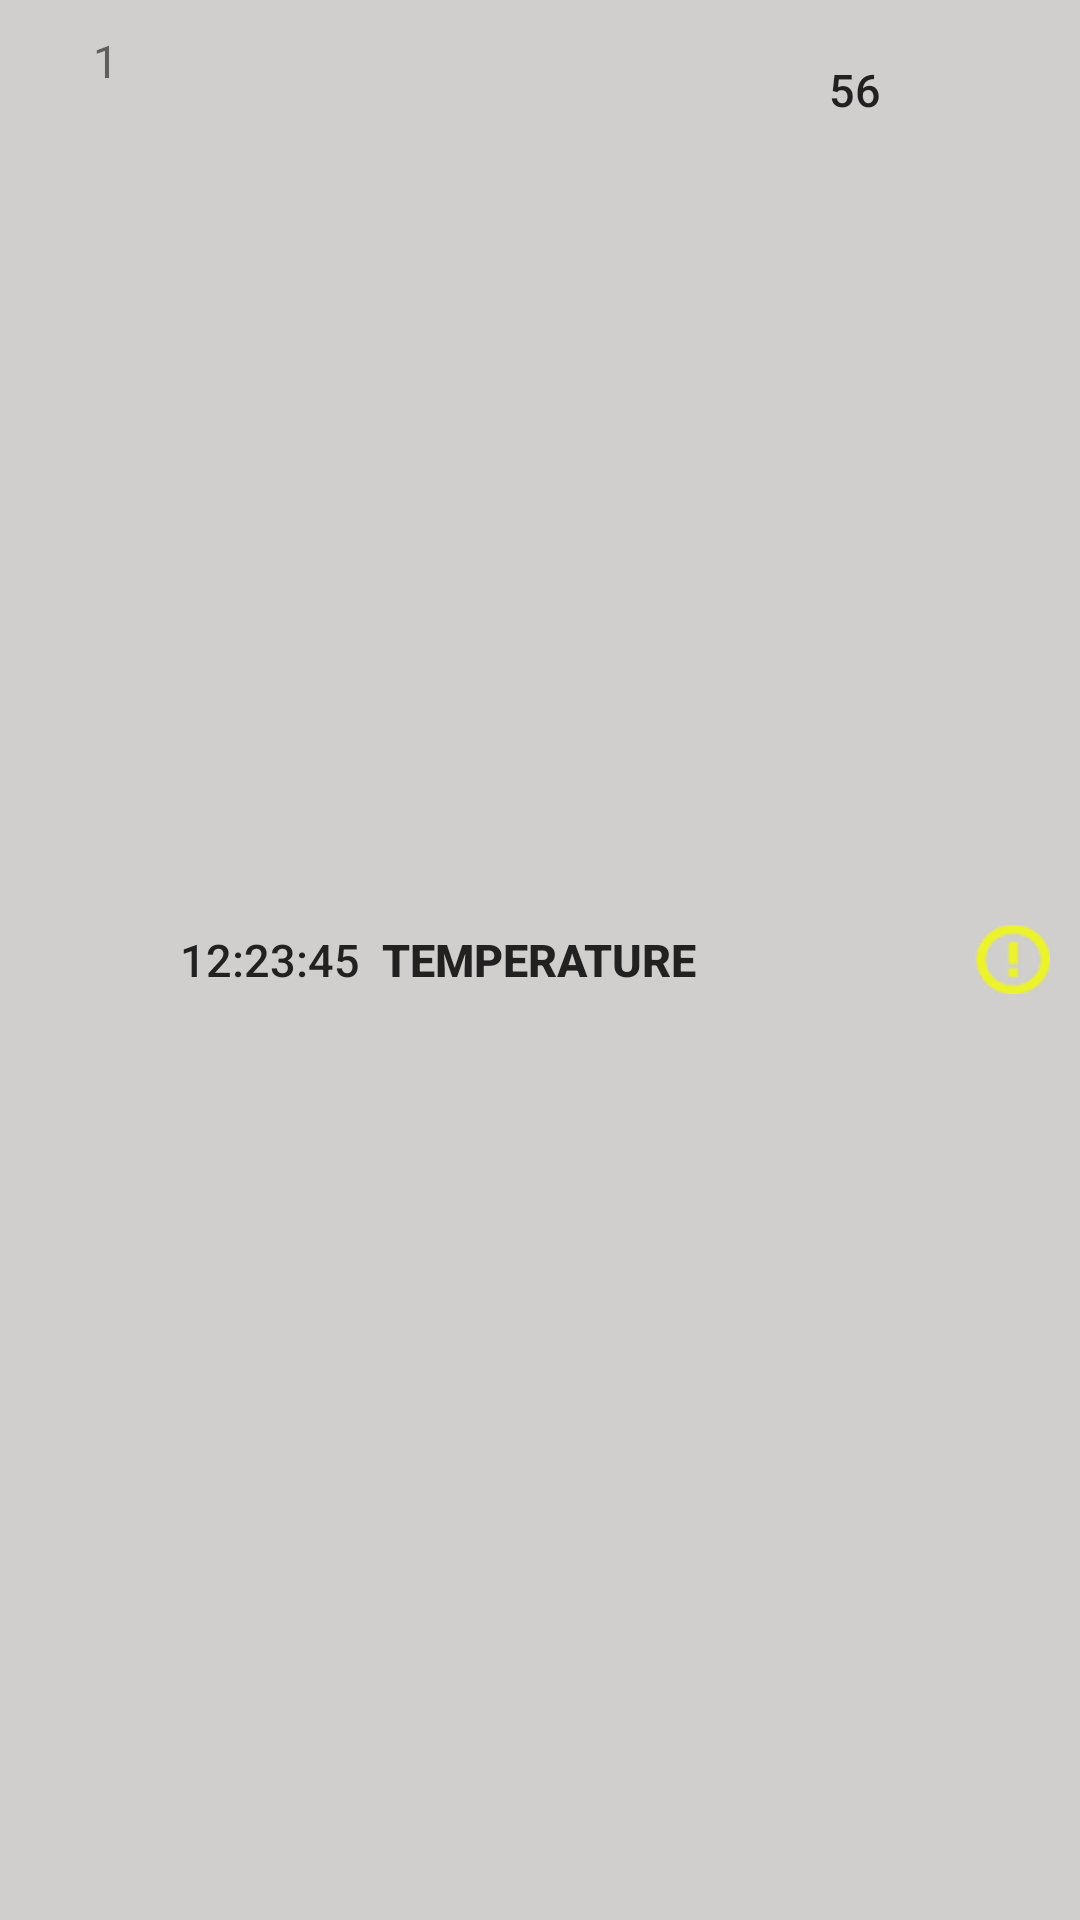

Named icons in this screenshot (1080*1920) and their bounding boxes, (x1,y1,x2,y2):
lnotification: (975,925,1050,994)
